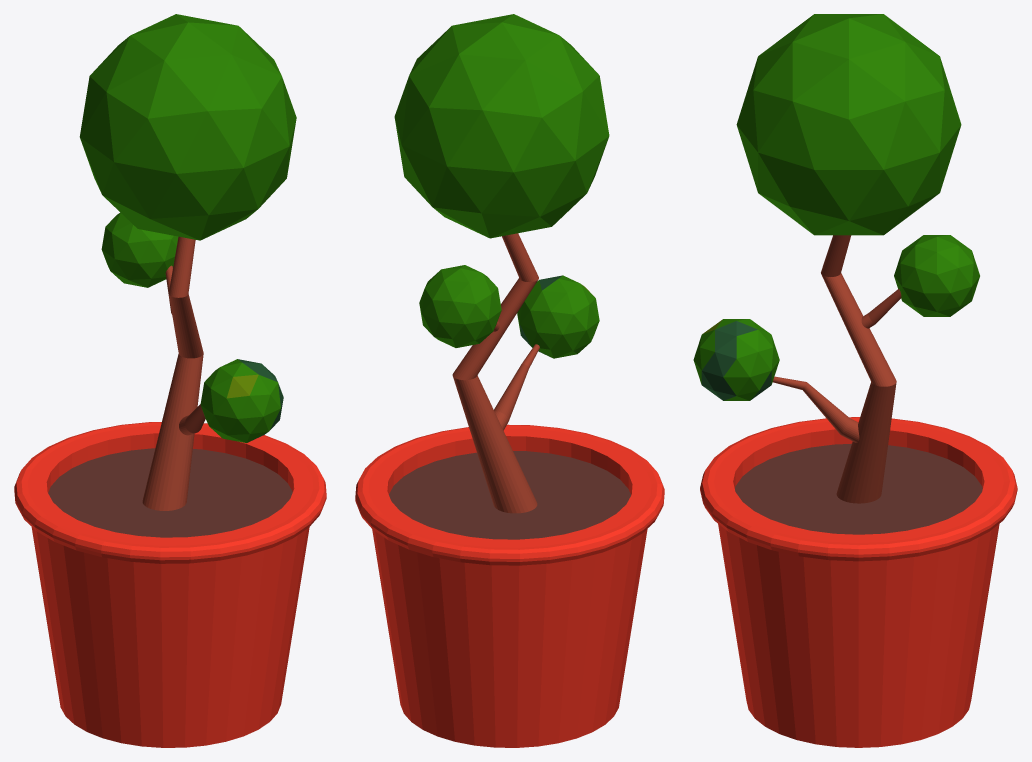
File: flower.fbx
The picture shows the model from 3 angles, left to right: view 1: azimuth 30°, elevation 25°; view 2: azimuth 150°, elevation 25°; view 3: azimuth 270°, elevation 25°; orthographic projection. The views are drawn at different scales.
Visible parts, largest first — view 1: Cylinder; view 2: Cylinder; view 3: Cylinder.
Part boxes in pixels (bbox=[...]): Cylinder: bbox=[14, 14, 326, 747]; Cylinder: bbox=[355, 14, 664, 747]; Cylinder: bbox=[693, 14, 1017, 747].
Size of the model in its own units: 282 by 676 by 288.
